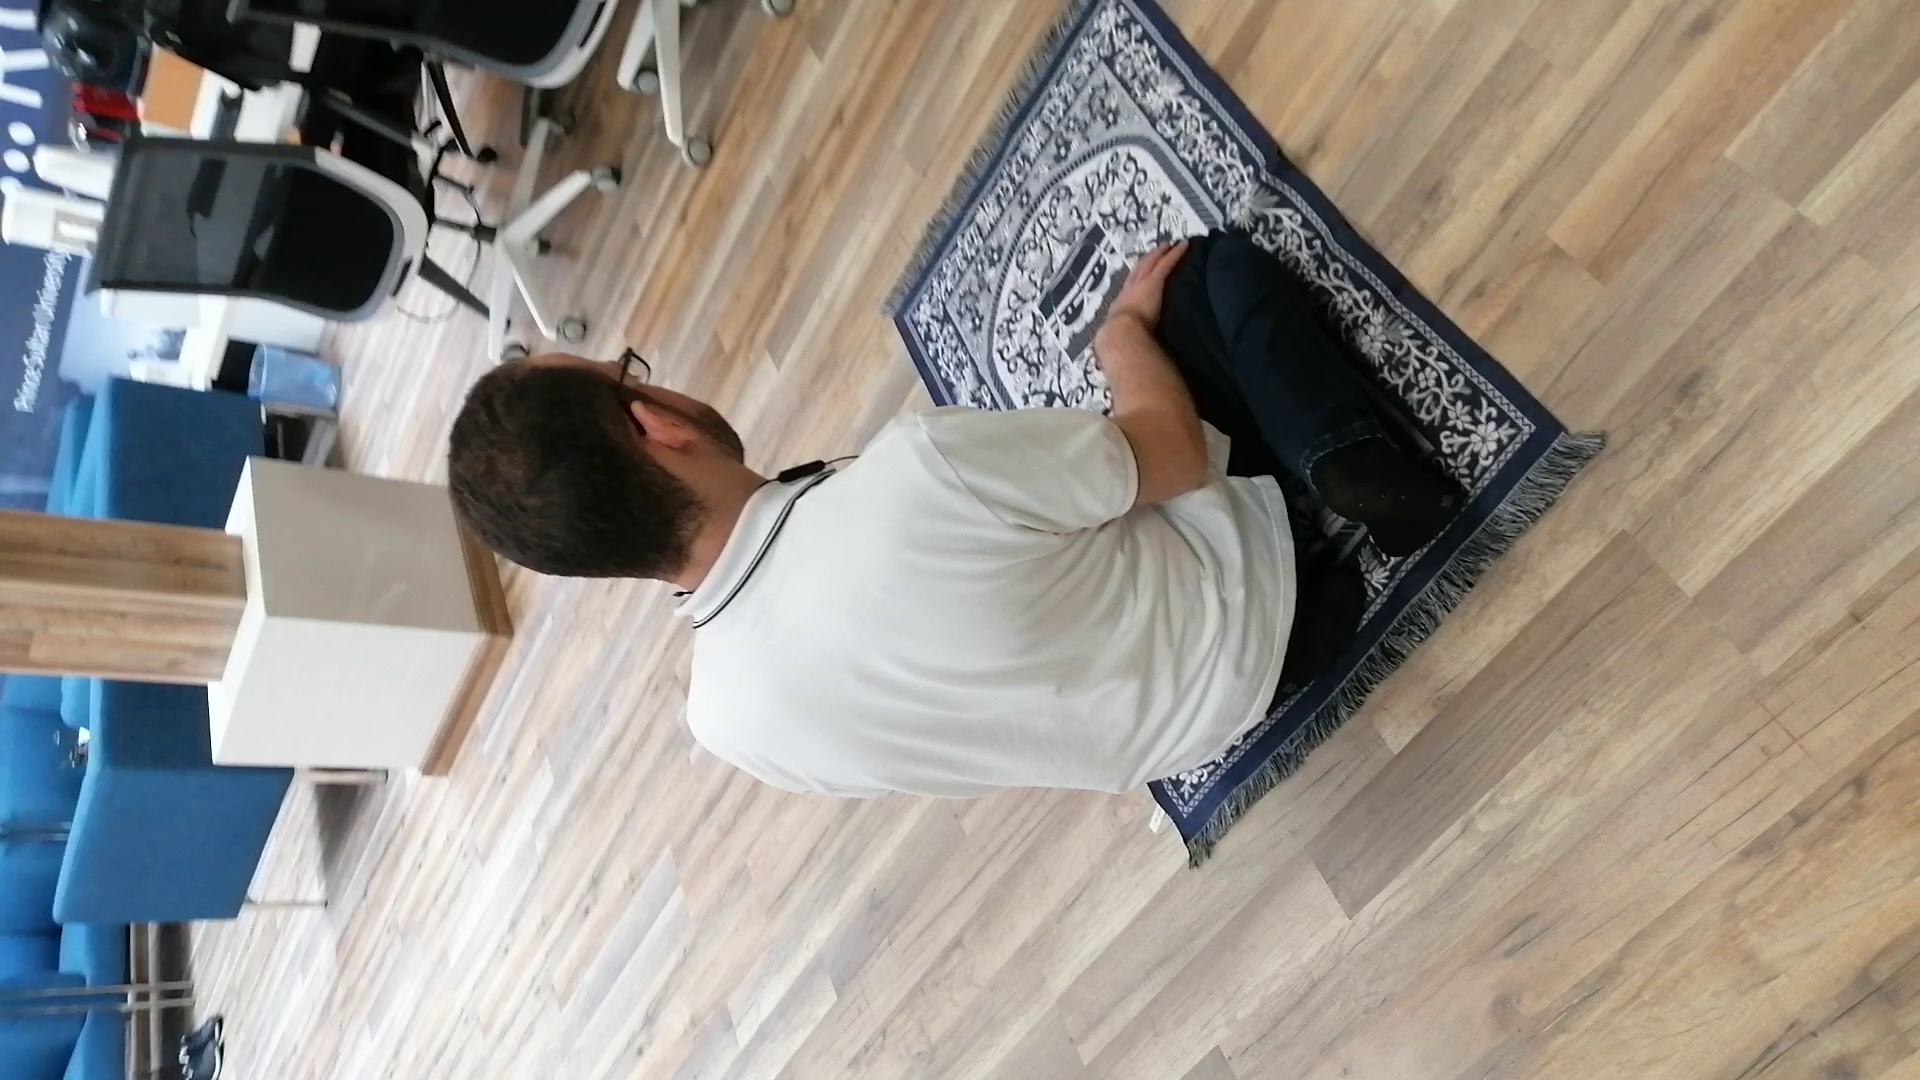sitting: (434, 220, 1465, 814)
